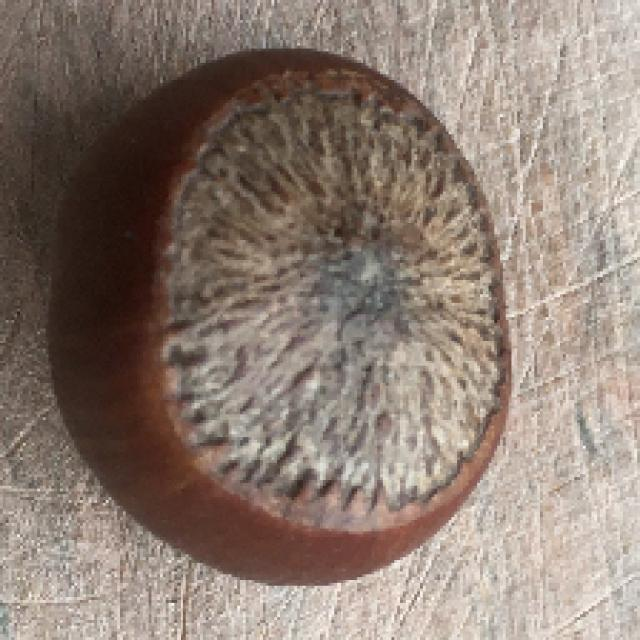damagedHazelnut: (53, 39, 512, 592)
